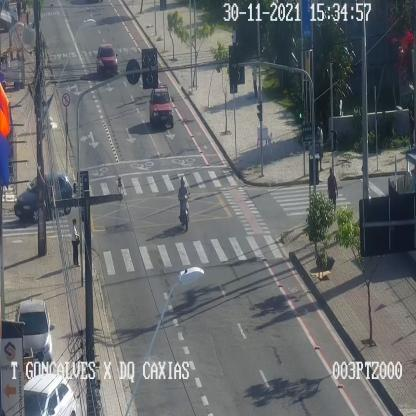car: (15, 174, 72, 220), (17, 299, 54, 364), (24, 374, 76, 415), (149, 84, 175, 128), (96, 43, 119, 74)
motorbike: (178, 175, 190, 231)
person: (328, 167, 338, 212), (72, 218, 80, 265), (317, 123, 324, 172), (252, 62, 258, 96), (231, 25, 237, 43)
